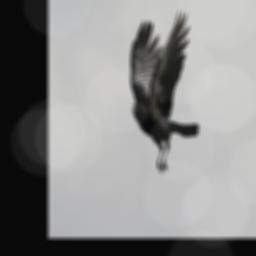Crow: (129, 8, 200, 177)
